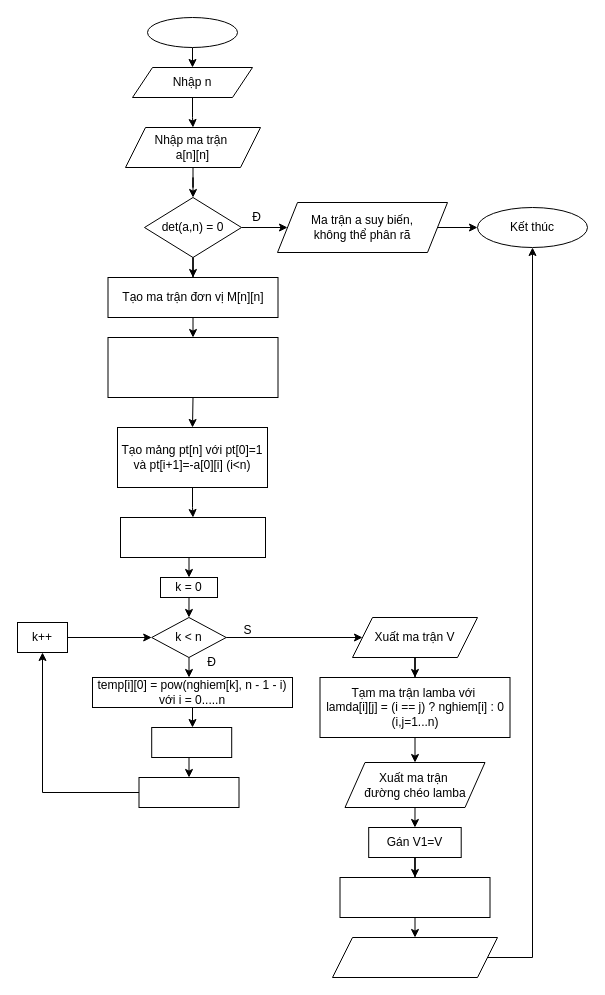
Image size: 605x995. Some labels were removed from this diagram. The centre of each missing label's shape, as x and y in pixels:
"Bắt đầu" goes at (x=192, y=32).
"kq = M*temp" goes at (x=191, y=742).
"nghichDaoMaTran(V1, n)" goes at (x=414, y=897).
"nghiem[]=giaipt(pt,n)" goes at (x=193, y=537).
"V[i][k] = kq[i][0] (i = 0...n)" goes at (x=188, y=792).
"Xuất ma trận nghịch đảo của V là V1" goes at (x=415, y=957).
"Xây dựng ma trận a, M tìm giá trị riêng bằng phương pháp Đanhilepski" goes at (x=192, y=367).
